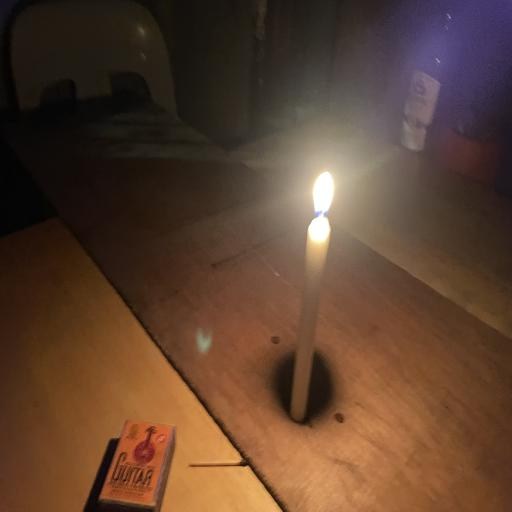fire: (300, 154, 351, 242)
